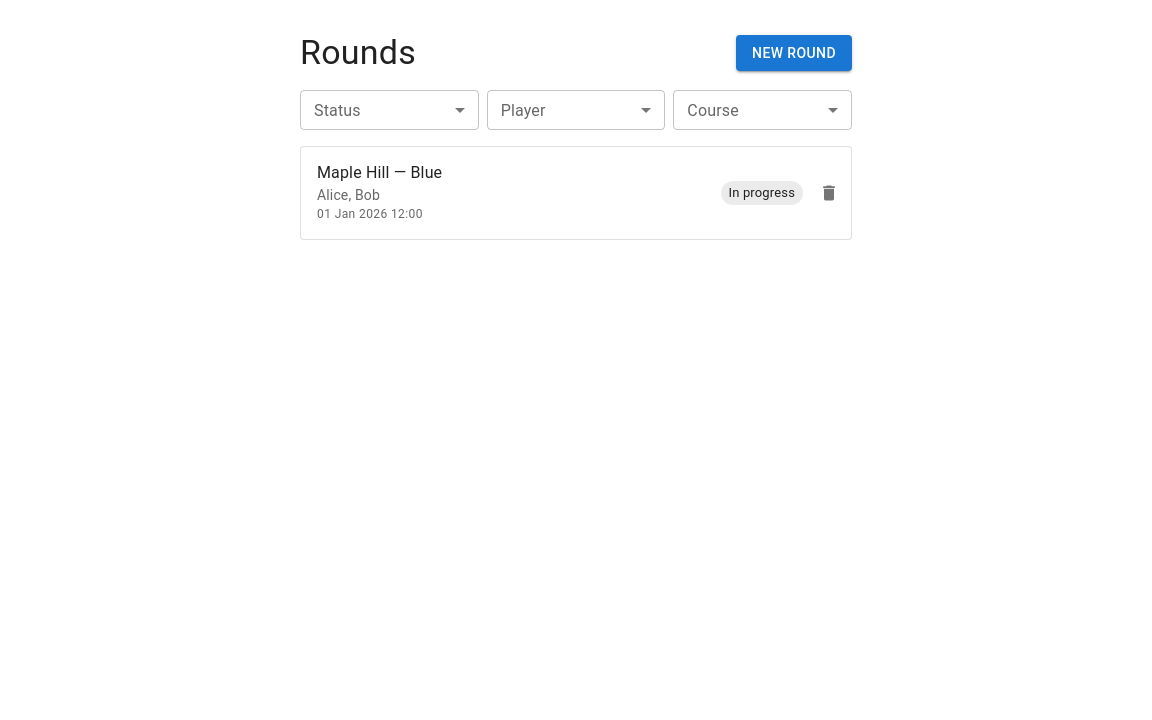
Test: RoundsListPage › deletes a round after confirming in the dialog
The image size is (1152, 720).
Check: the text "Maple Hill — Blue" is shown, box [317,163,442,182]
Click the button named "delete round: maple hill". click: (829,193)
box: [811,175,847,211]
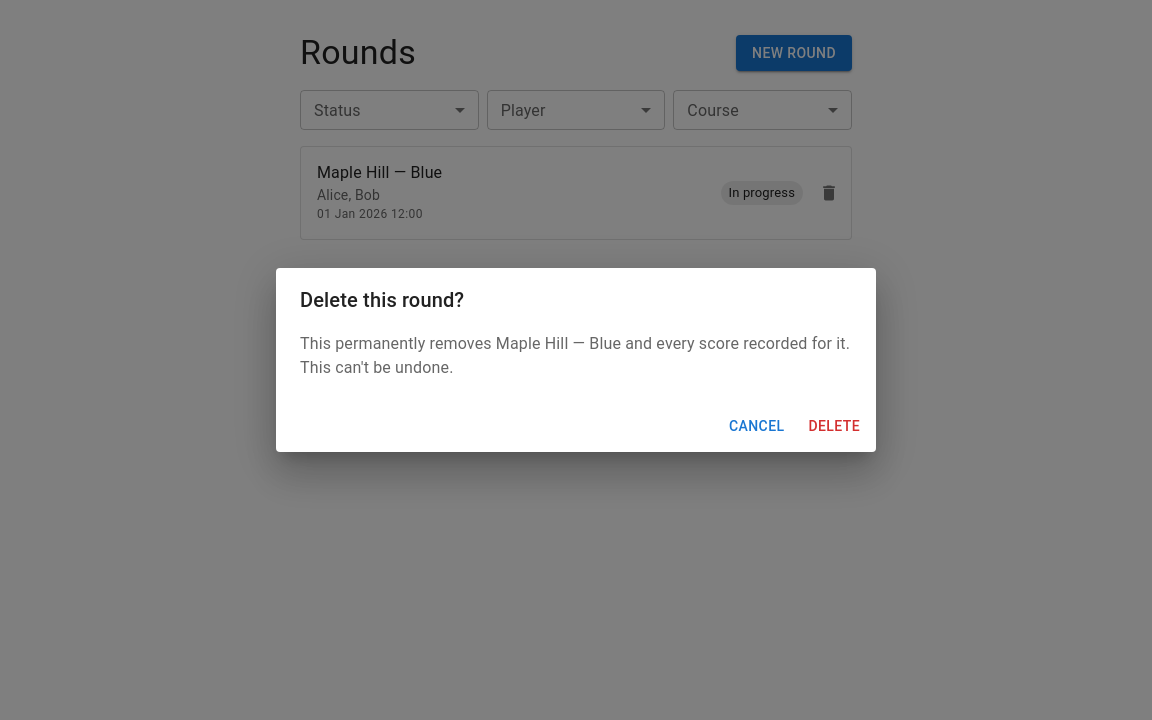
Click the button "Delete". click: (834,426)
box: [800,408,868,444]
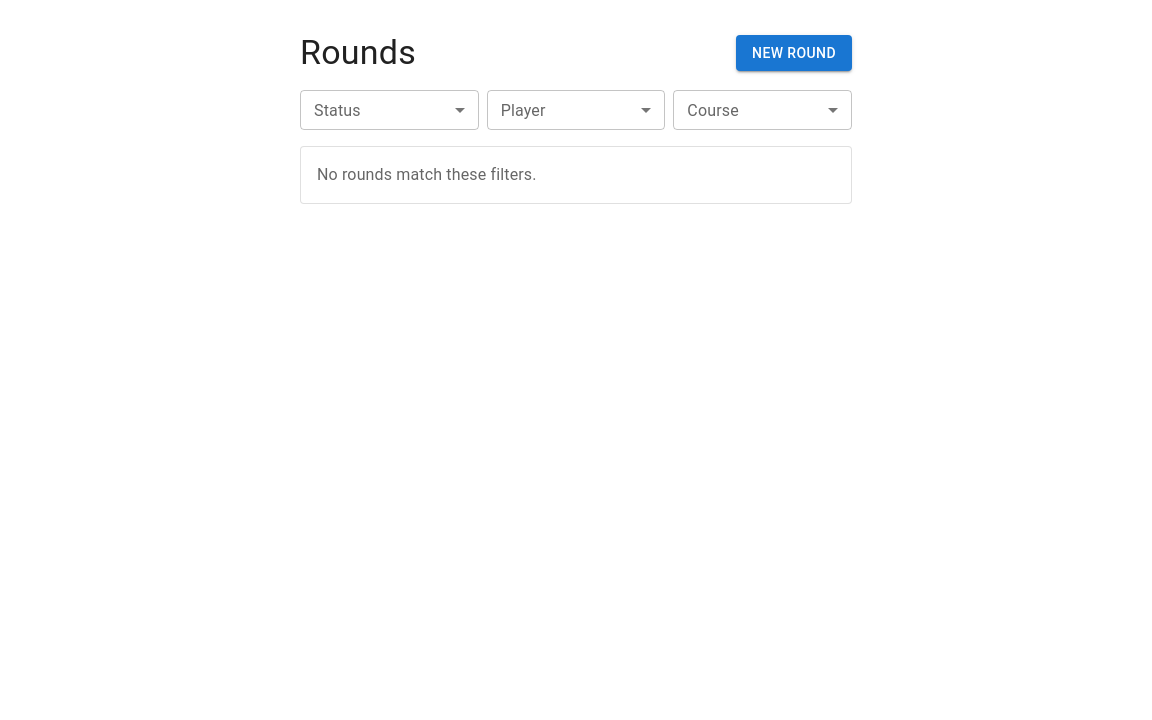
Check: the link "Maple Hill — Blue" is gone
